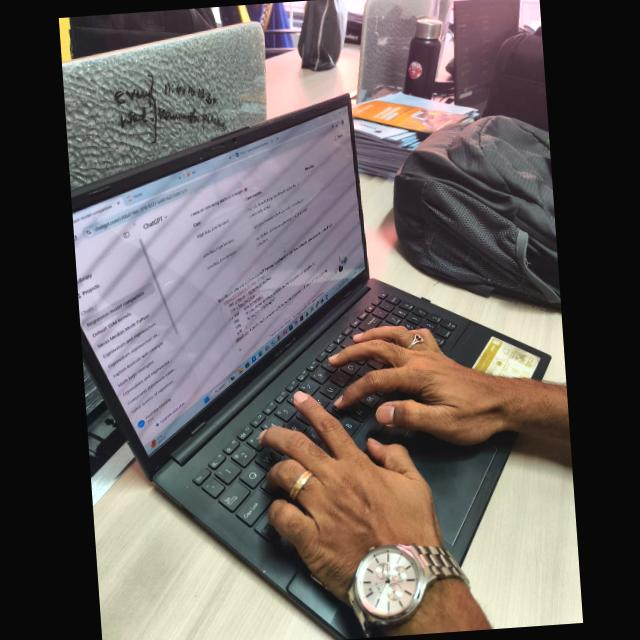laptop: (72, 125, 550, 635)
